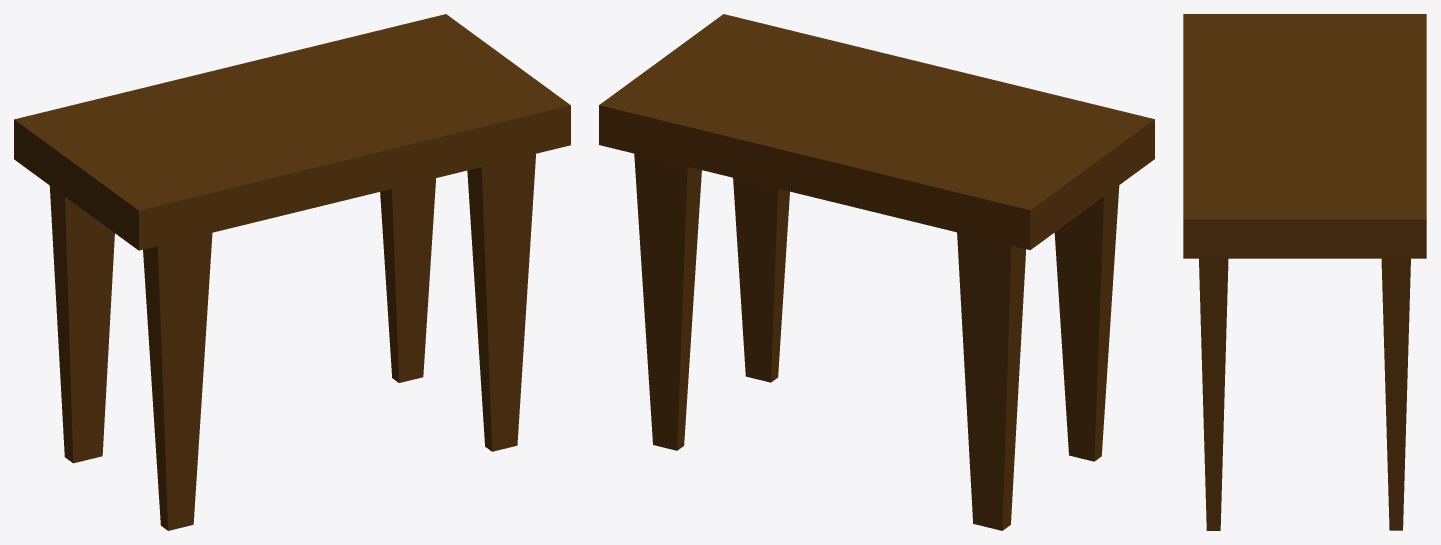
File: table.fbx
The picture shows the model from 3 angles, left to right: view 1: azimuth 30°, elevation 25°; view 2: azimuth 150°, elevation 25°; view 3: azimuth 270°, elevation 25°; orthographic projection. The views are drawn at different scales.
Parts seen in each view (by area): view 1: Cube; view 2: Cube; view 3: Cube.
Part boxes in pixels (<box>): Cube: <box>14,14,570,530</box>; Cube: <box>599,14,1154,530</box>; Cube: <box>1183,14,1426,530</box>.
Bounding box in the file's own units: 4 × 3 × 2.
